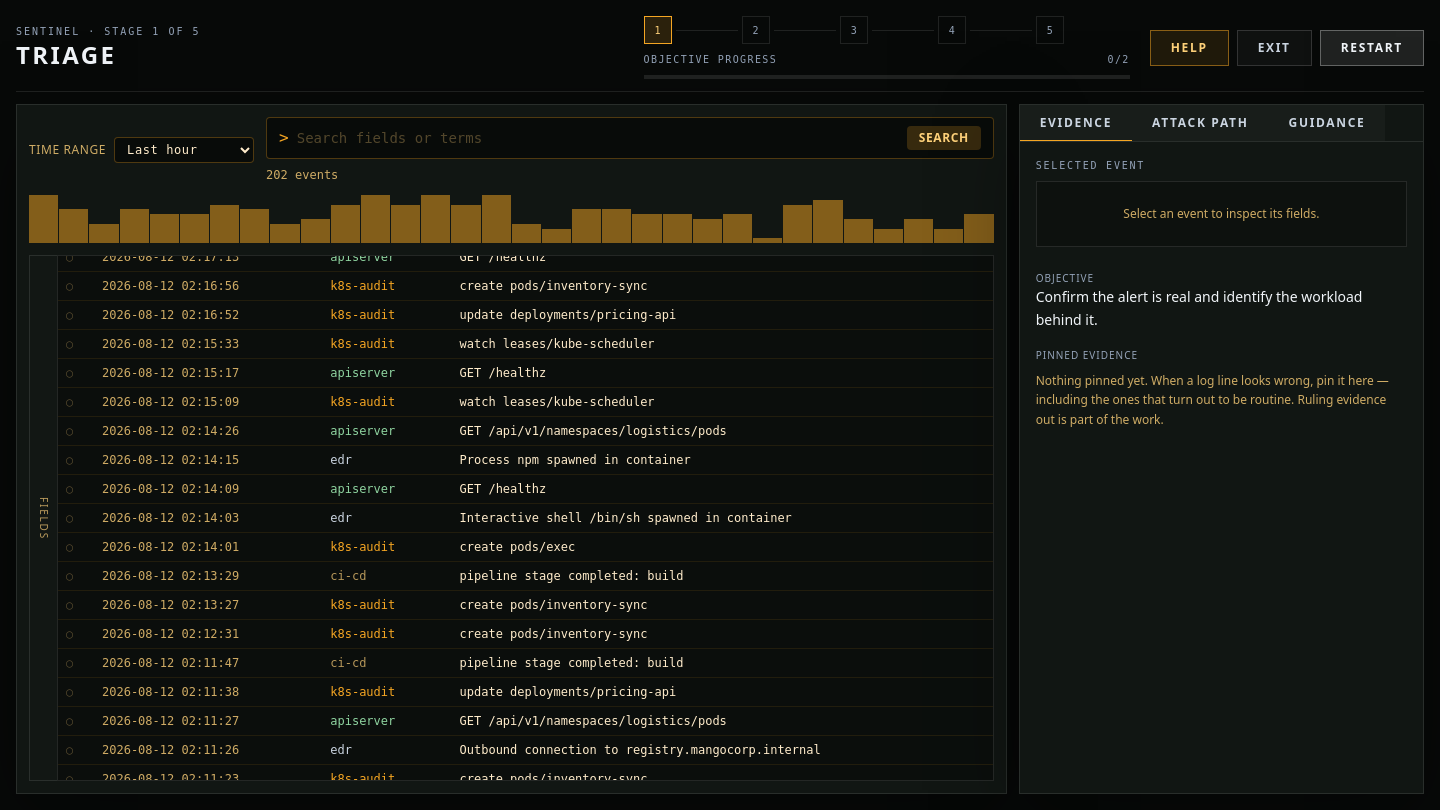
MissionPage Sentinel workspace › combines selected details, pinning, findings, and case history in Evidence with one announcement and badge
(page scrolled)
Click the button named "Interactive shell /bin/sh spawned" at [70, 518], box [66,512,73,524]
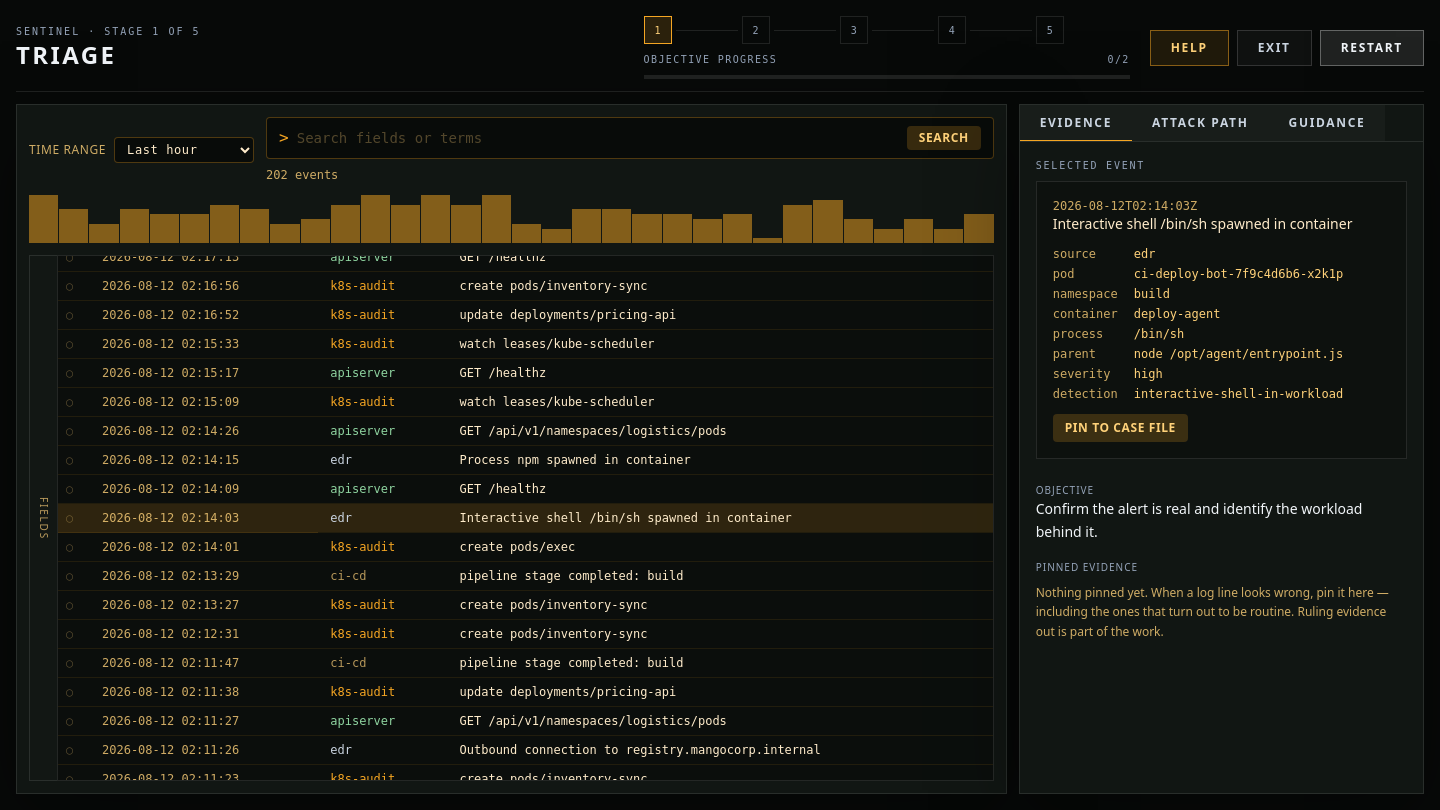
Now the button "Pin to case file" is shown
Click the button "Pin to case file" at [1120, 428], box [1053,414,1188,442]
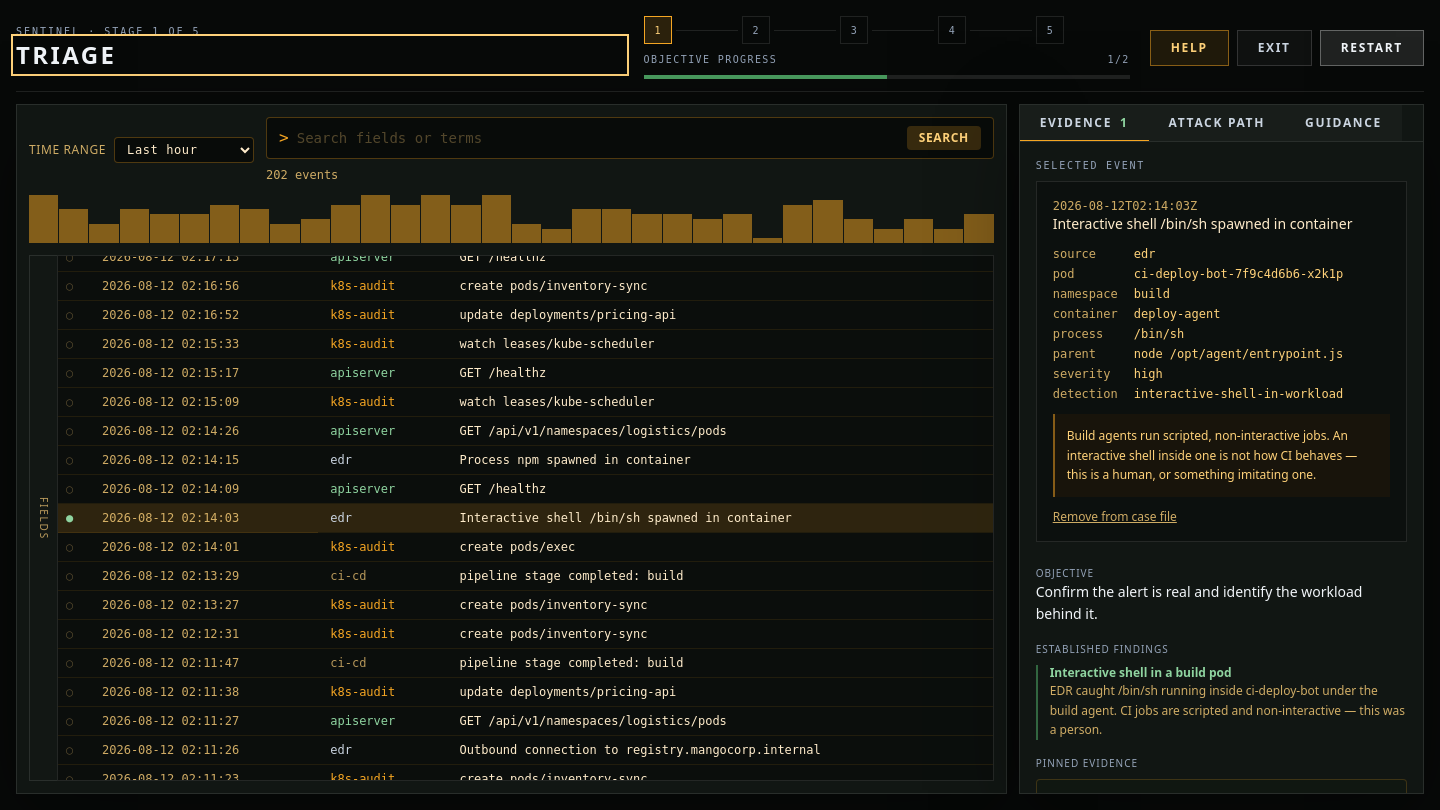
Now the text "Interactive shell in a build pod" is shown, box [1050,664,1232,681]
Now the button "Remove from case file" is shown, box [1053,508,1177,524]
Now the tab with aria-label "Evidence, 1 new finding" is shown, box [1020,105,1149,141]
